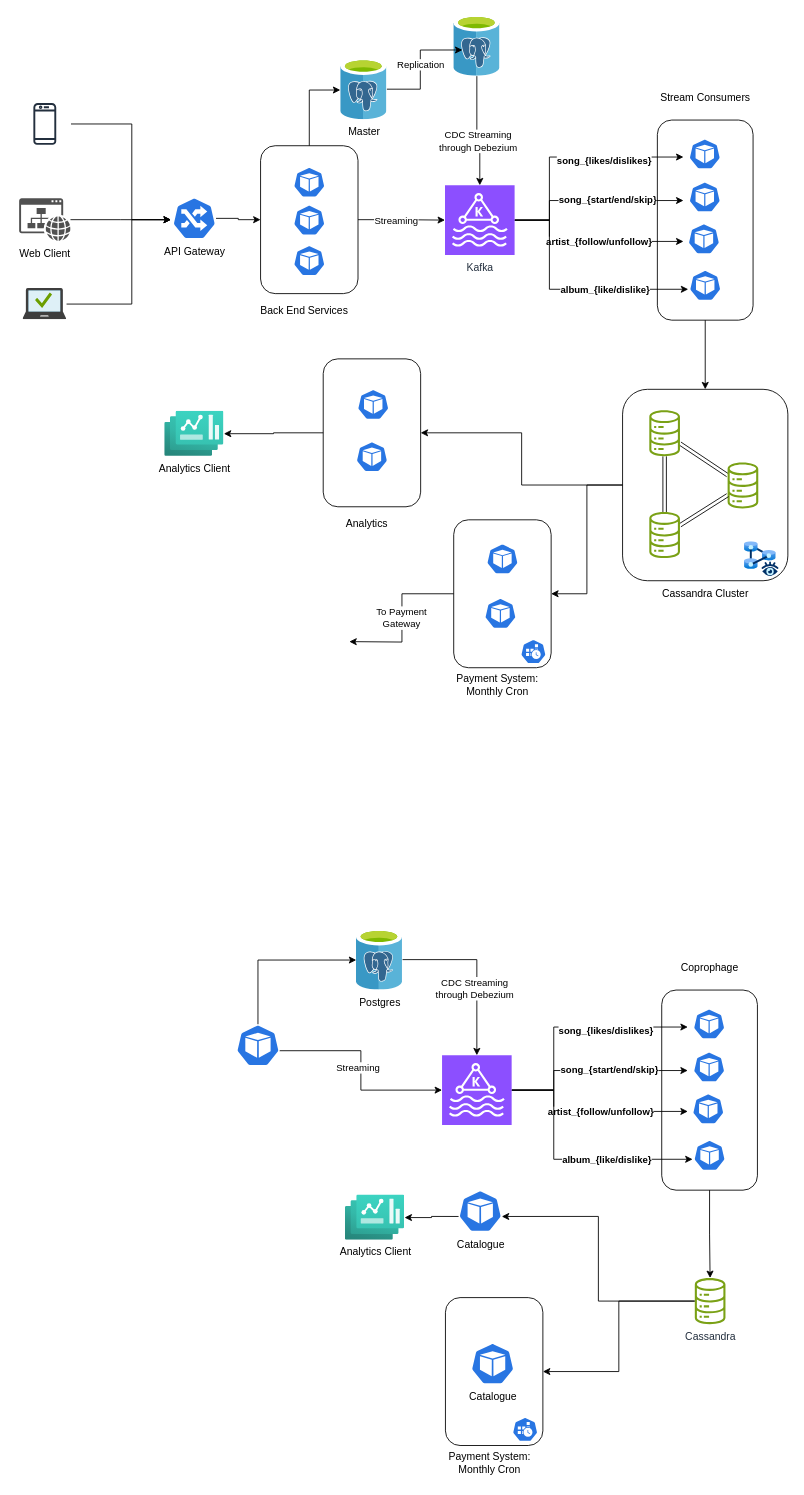
Image size: 804x1495. Some labels were removed from this diagram. The shapes that lost their labels are listed below. From the top down, each one's centre as x and y in pixels, then its label:
At (476,45): "Read Replica".
At (44,123): "Mobile App".
At (44,303): "Desktop App".
At (257,1045): "Guano".
At (476,1089): "Franz".
